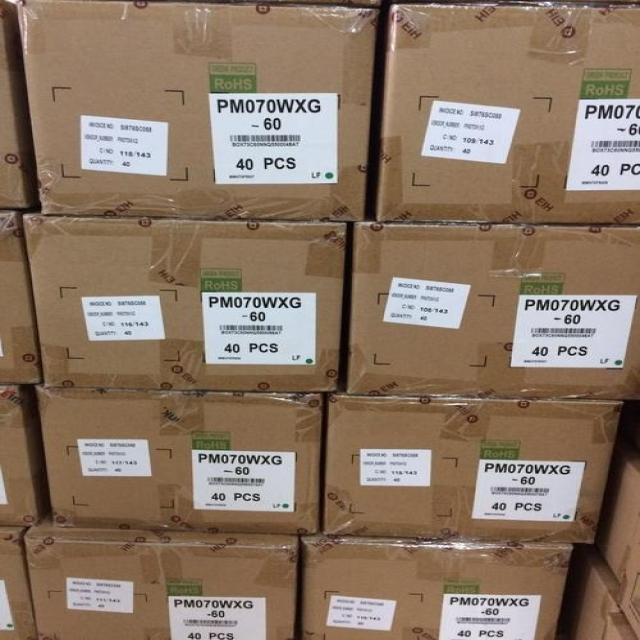box: (15, 1, 378, 221), (376, 1, 638, 226), (22, 214, 346, 392), (346, 221, 639, 399), (323, 391, 623, 543), (35, 383, 324, 536), (24, 514, 299, 639), (301, 533, 572, 639), (586, 448, 639, 638), (0, 0, 39, 209), (556, 542, 638, 638), (1, 209, 42, 384), (0, 384, 50, 526), (1, 526, 36, 639)
